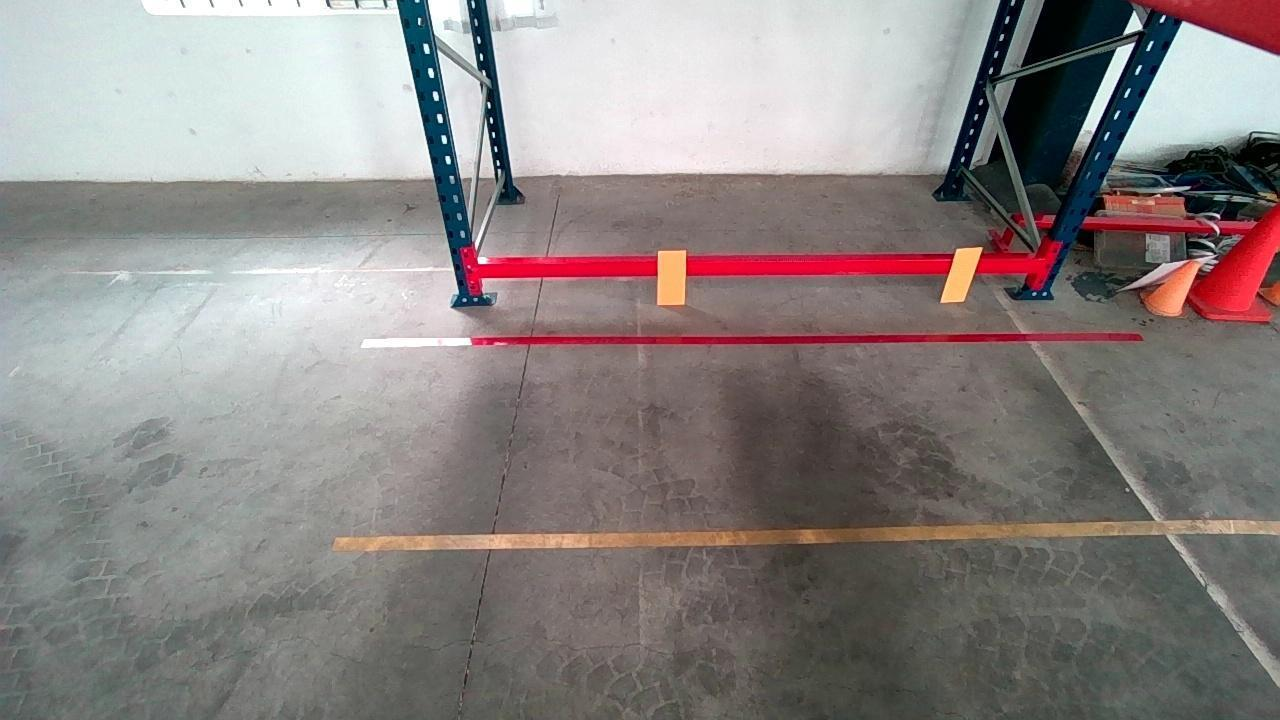h_rack: (332, 520, 1280, 550), (474, 259, 1041, 278), (474, 259, 1040, 278)
orange_strip: (941, 246, 985, 301), (658, 248, 688, 302)
red_line: (361, 331, 1140, 351)
